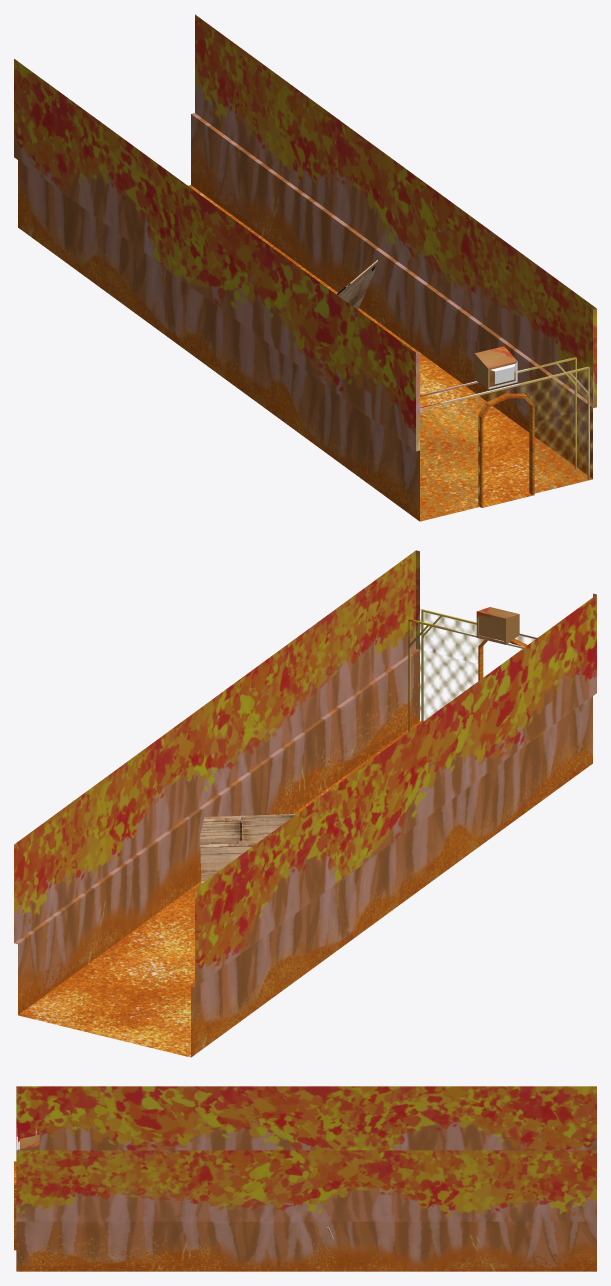
File: corridor3_2.glb
3 renders of one model, top to bottom at view 1: azimuth 30°, elevation 25°; view 2: azimuth 150°, elevation 25°; view 3: azimuth 270°, elevation 25°, orthographic. The views are drawn at different scales.
Parts seen in each view (by area): view 1: corridor_base.003, table_mesh.013; view 2: corridor_base.003, table_mesh.013; view 3: corridor_base.003.
Boxes of the visible parts, <box> form: corridor_base.003: <box>14,14,596,521</box>; table_mesh.013: <box>336,260,377,309</box>; corridor_base.003: <box>14,550,596,1057</box>; table_mesh.013: <box>200,814,296,883</box>; corridor_base.003: <box>14,1086,596,1271</box>.
Bounding box in the file's own units: 5.18 × 4.67 × 20.
2 materials, 2 textured.
